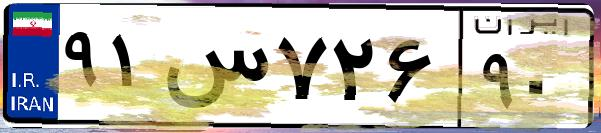0: (525, 38, 570, 115)
1: (110, 28, 158, 98)
2: (330, 28, 385, 110)
6: (385, 28, 445, 110)
7: (270, 28, 330, 110)
9: (57, 26, 110, 100), (475, 38, 525, 113)
س: (158, 20, 270, 120)
